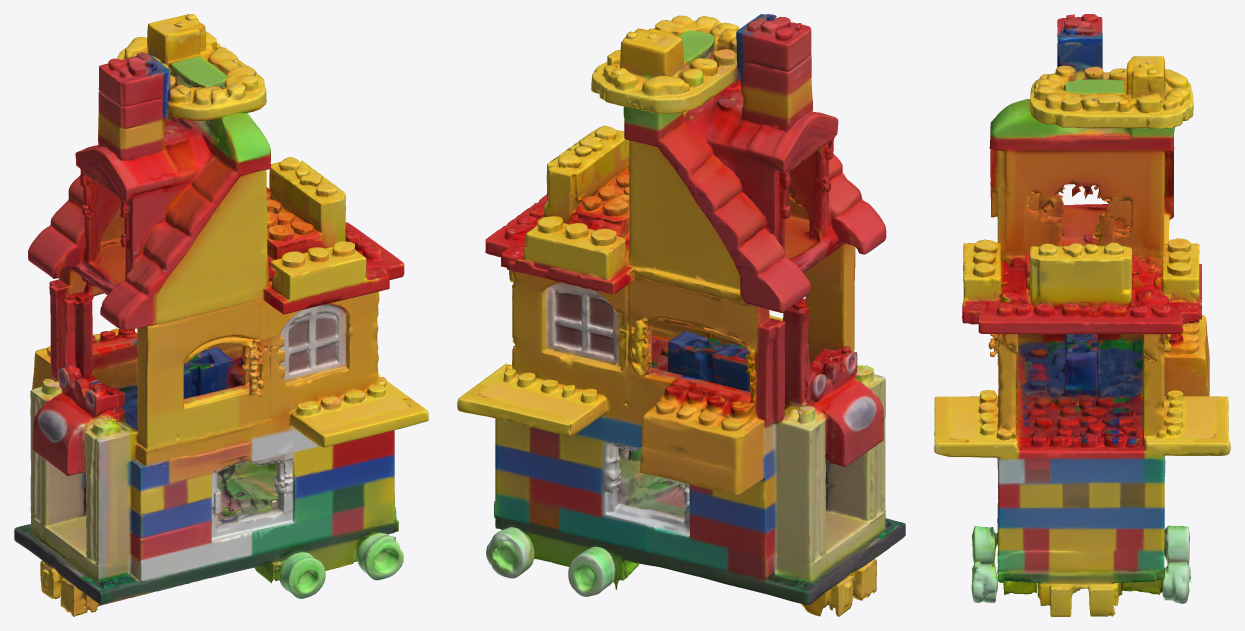
Rendered from walter.glb.
The picture shows the model from 3 angles, left to right: view 1: azimuth 30°, elevation 25°; view 2: azimuth 150°, elevation 25°; view 3: azimuth 270°, elevation 25°; orthographic projection. The views are drawn at different scales.
Parts seen in each view (by area): view 1: Mesh_0; view 2: Mesh_0; view 3: Mesh_0.
Boxes of the visible parts, <box> form: Mesh_0: <box>14,14,428,616</box>; Mesh_0: <box>457,14,905,616</box>; Mesh_0: <box>934,14,1230,616</box>.
Bounding box in the file's own units: 0.631 × 1 × 0.5476.
Materials: 1 (1 with a texture image).
